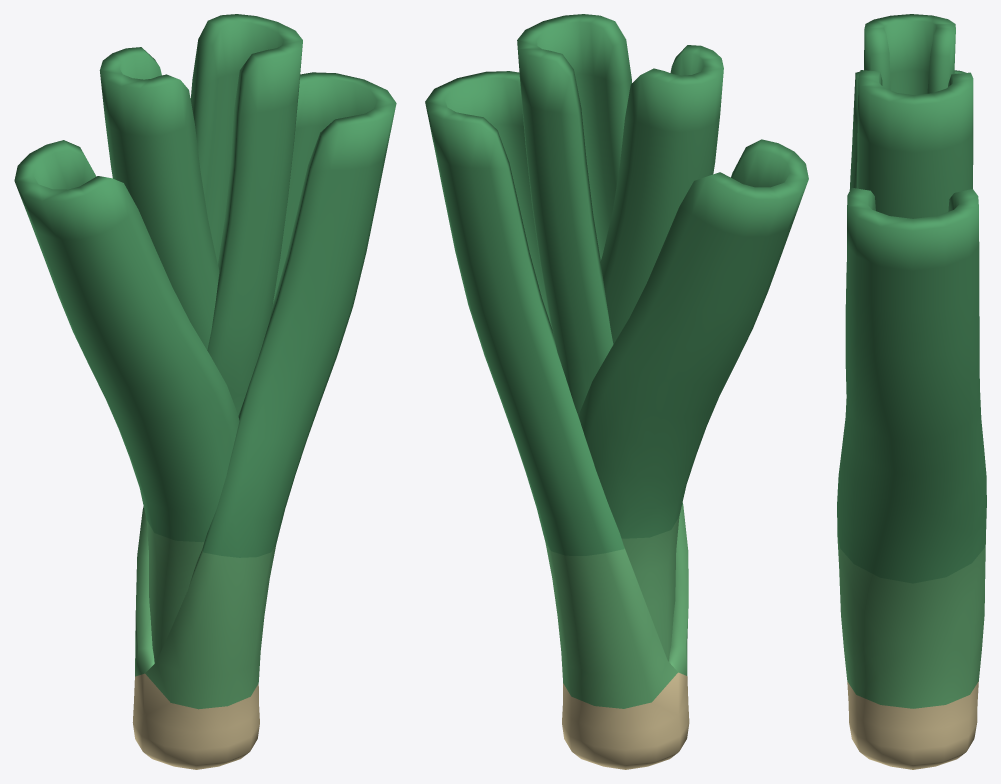
Rendered from Leek_01.dae.
3 renders of one model, left to right at view 1: azimuth 30°, elevation 25°; view 2: azimuth 150°, elevation 25°; view 3: azimuth 270°, elevation 25°, orthographic.
Visible parts, largest first — view 1: Leek_01_LOD0; view 2: Leek_01_LOD0; view 3: Leek_01_LOD0.
Boxes of the visible parts, bbox=[...] form: Leek_01_LOD0: bbox=[14, 14, 396, 769]; Leek_01_LOD0: bbox=[425, 14, 808, 769]; Leek_01_LOD0: bbox=[837, 14, 986, 769].
Size of what is drawn, in the model's own units: 4.25 by 1.51 by 7.83.
